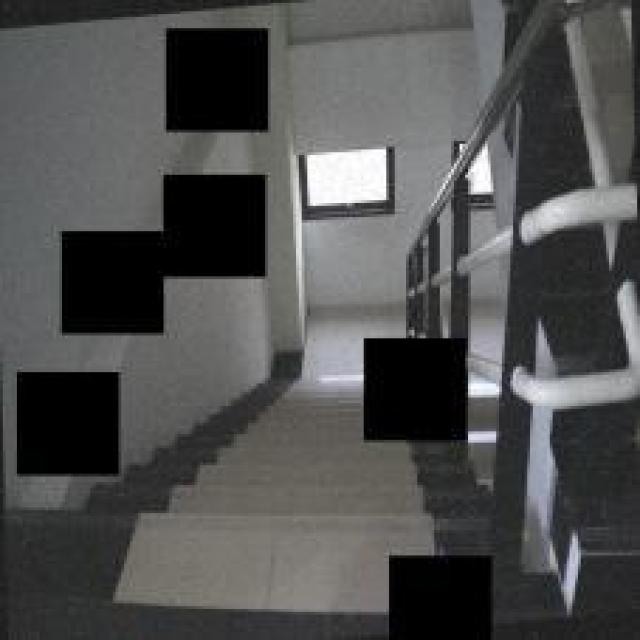downstair: (193, 407, 351, 610)
